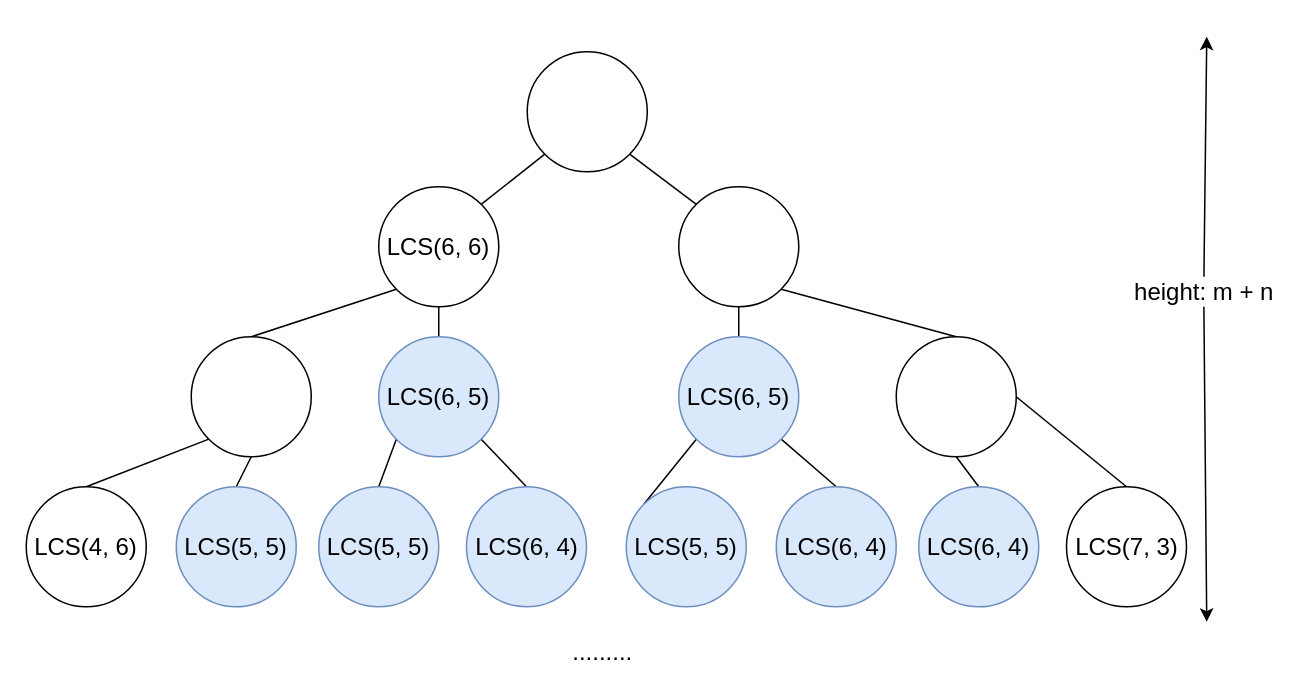
Some shapes in this 1313 by 693 pixel diagram are drawn without their labels. Each missing label, with the centre of its shape:
"LCS(5, 6)" goes at pixel 250 396.
"LCS(7, 4)" goes at pixel 955 396.
"LCS(7, 5)" goes at pixel 738 246.
"LCS(7, 6)" goes at pixel 586 111.
